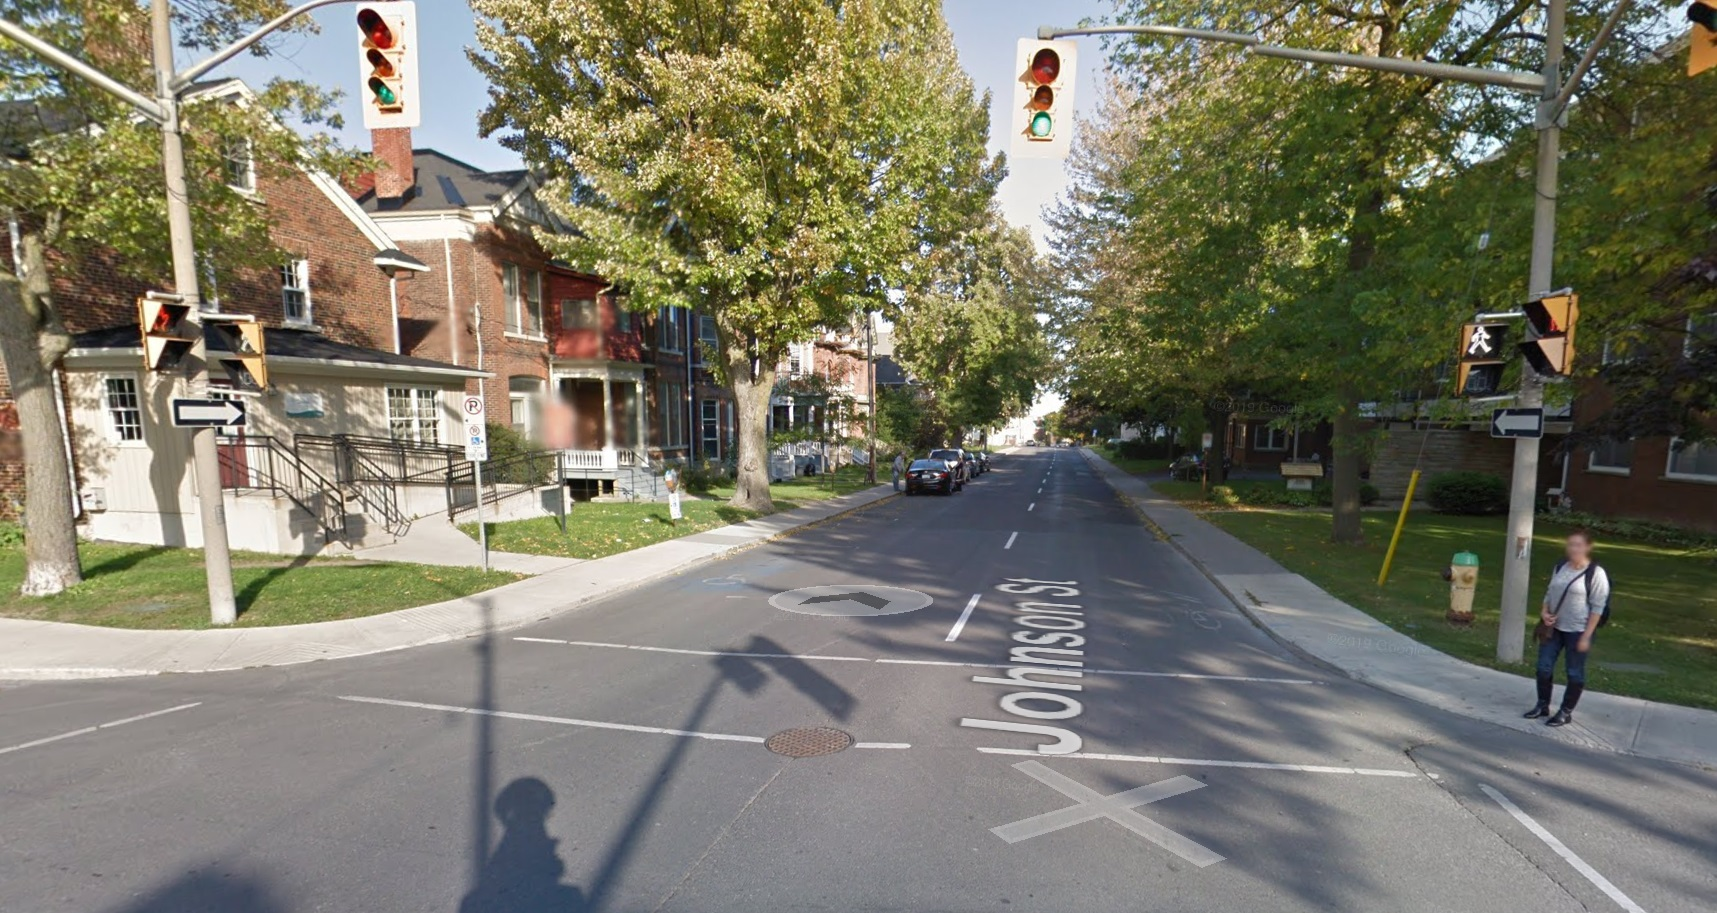sign_oneway_left: (1490, 407, 1544, 438)
sign_oneway_right: (167, 394, 248, 429)
